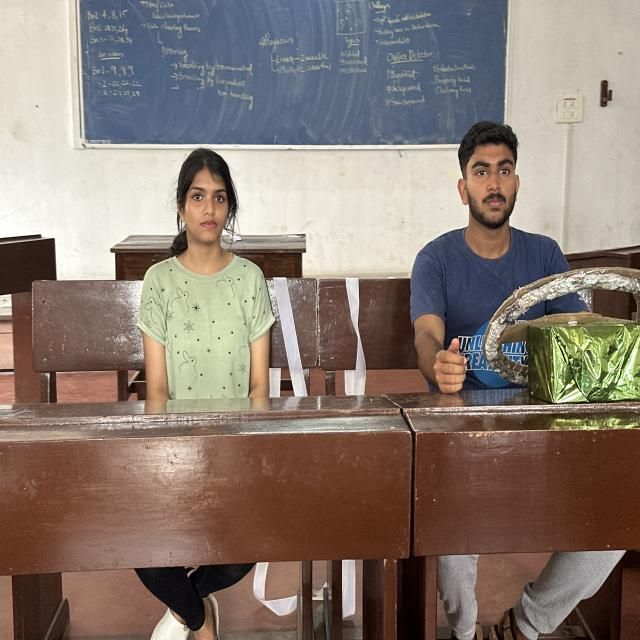Helmet: (410, 226, 594, 396), (130, 239, 282, 398)
